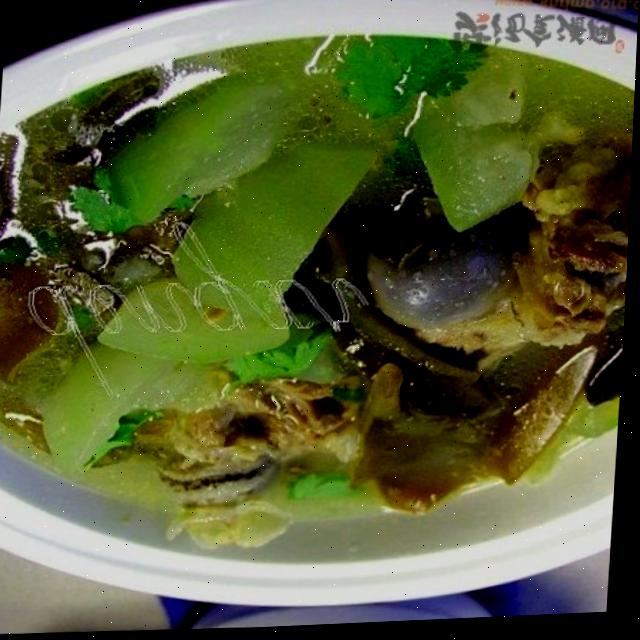汤锅炖物: (0, 9, 639, 600)
